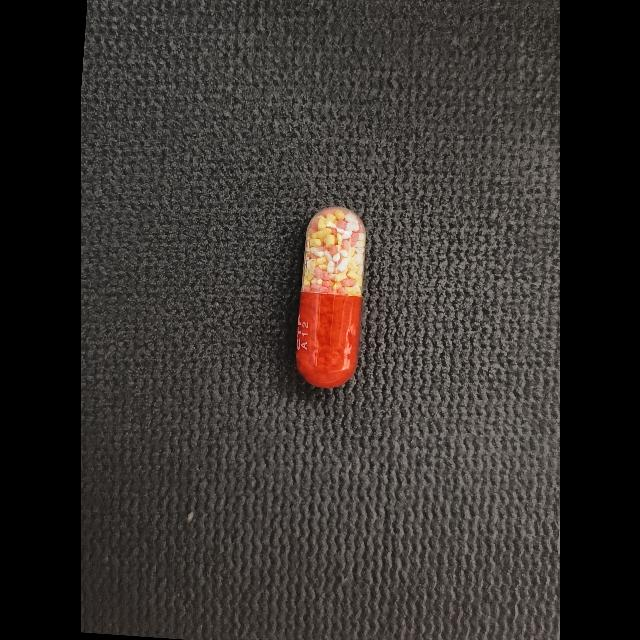Intact Capsule: (295, 206, 365, 388)
